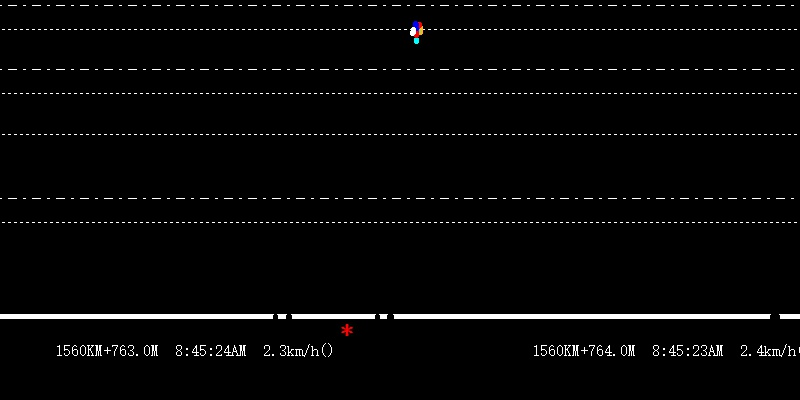face_2: (409, 21, 422, 46)
star: (340, 322, 353, 336)
